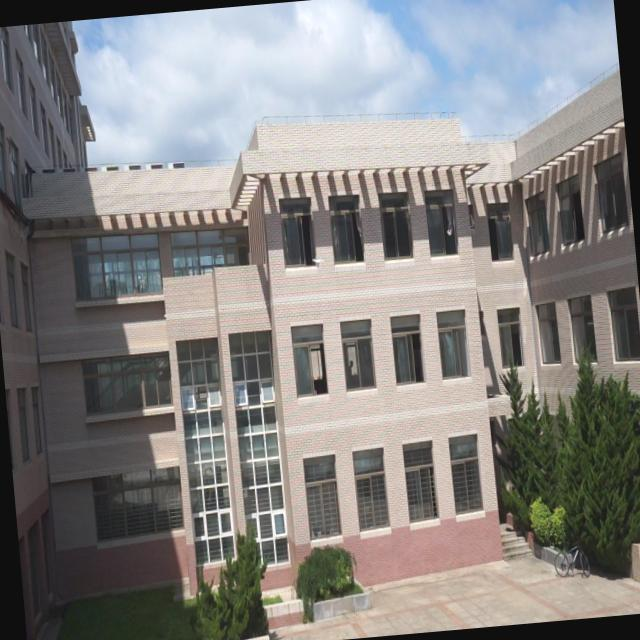drone: (310, 256, 324, 271)
